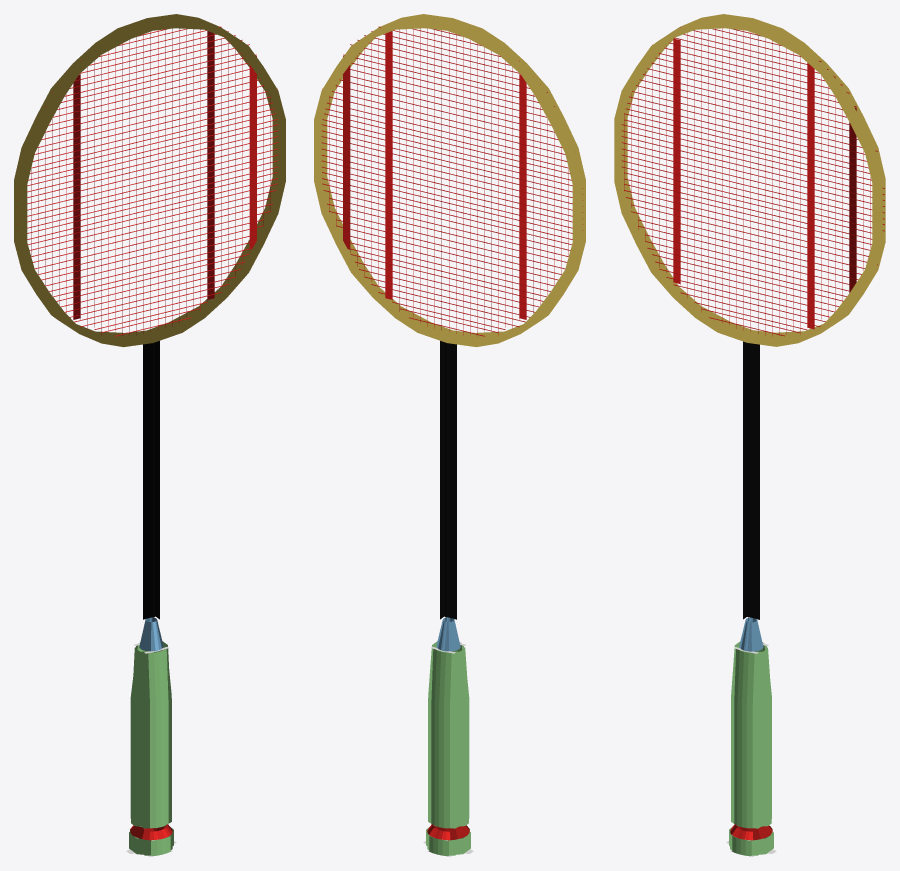
File: racket.glb
3 renders of one model, left to right at view 1: azimuth 30°, elevation 25°; view 2: azimuth 150°, elevation 25°; view 3: azimuth 330°, elevation 25°, orthographic.
Parts seen in each view (by area): view 1: Cylinder.025_2; view 2: Cylinder.025_2; view 3: Cylinder.025_2.
Boxes of the visible parts, <box> form: Cylinder.025_2: <box>14,14,285,856</box>; Cylinder.025_2: <box>314,14,585,856</box>; Cylinder.025_2: <box>614,14,885,856</box>.
Size of the model in its own units: 1.61 by 4.75 by 0.223.
